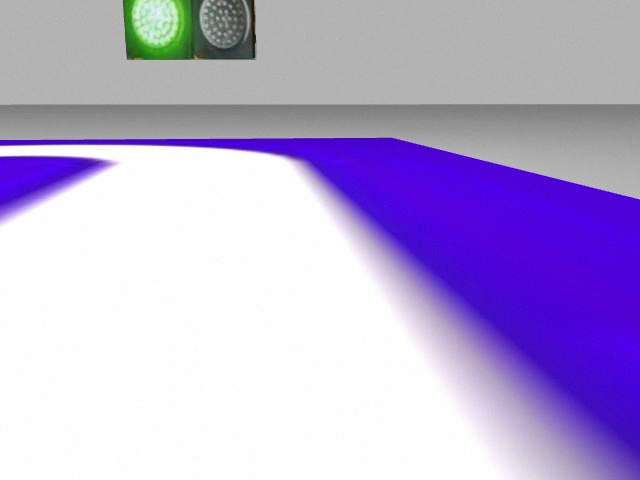green: (121, 1, 195, 60)
